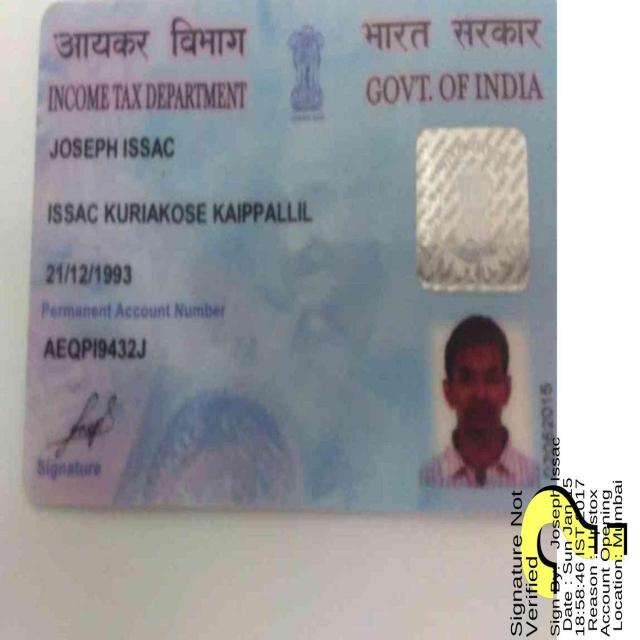pan_card: (23, 2, 552, 505)
